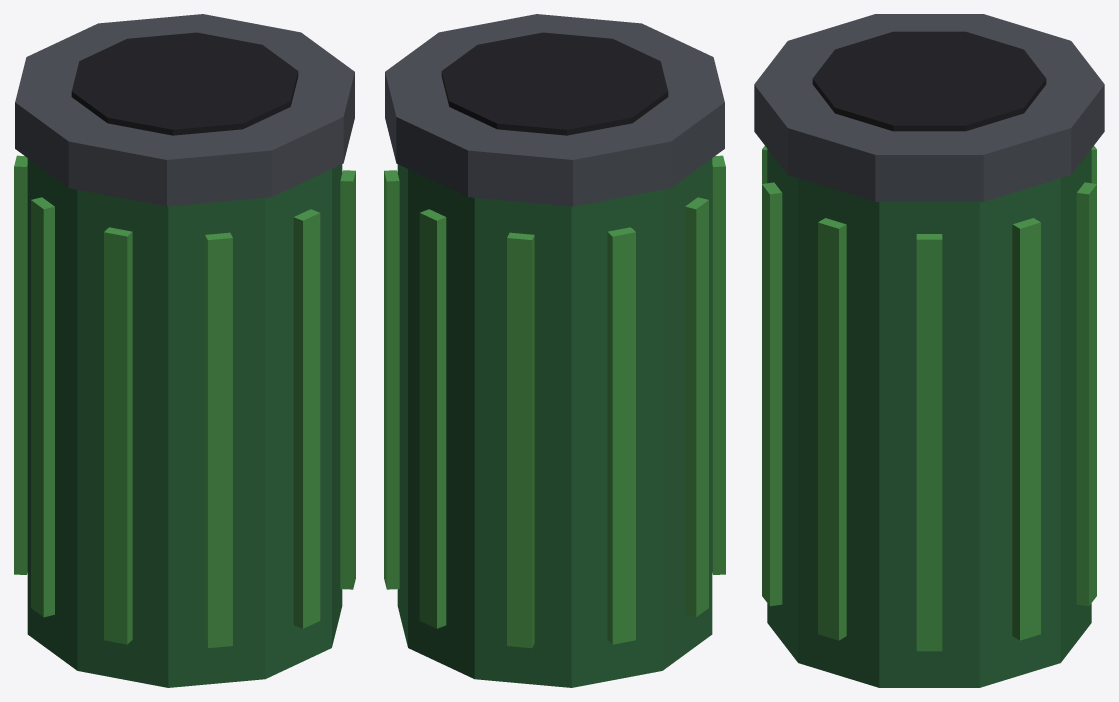
The model's file is Trash_Can.glb.
3 renders of one model, left to right at view 1: azimuth 30°, elevation 25°; view 2: azimuth 150°, elevation 25°; view 3: azimuth 270°, elevation 25°, orthographic.
Parts seen in each view (by area): view 1: Trash_Can; view 2: Trash_Can; view 3: Trash_Can.
Boxes of the visible parts, x1,y1,x2,y2 form: Trash_Can: (14, 14, 355, 687); Trash_Can: (384, 14, 725, 687); Trash_Can: (754, 14, 1104, 687).
Bounding box in the file's own units: 0.53 × 0.955 × 0.54.
1 material, 1 textured.
